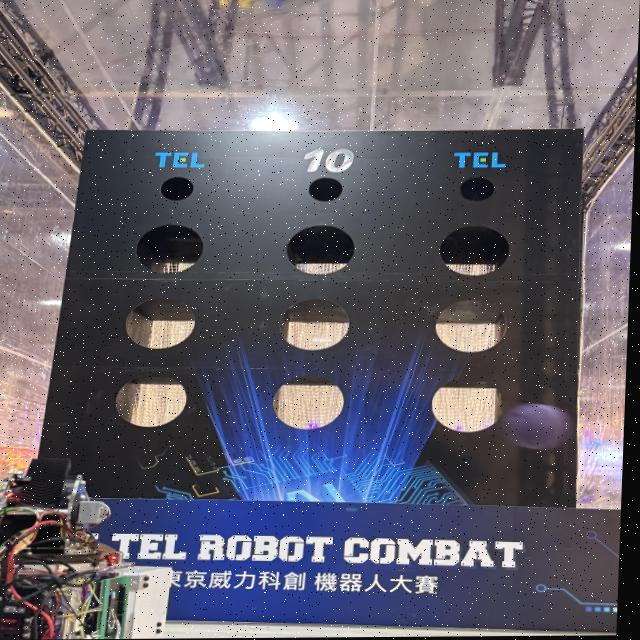hole: (272, 374, 345, 429), (433, 378, 506, 433), (116, 375, 188, 427), (436, 299, 507, 351), (279, 299, 350, 350), (440, 225, 510, 276), (126, 297, 196, 348), (286, 225, 356, 274), (136, 224, 204, 274), (461, 177, 496, 202), (160, 177, 195, 201), (308, 177, 343, 201)
